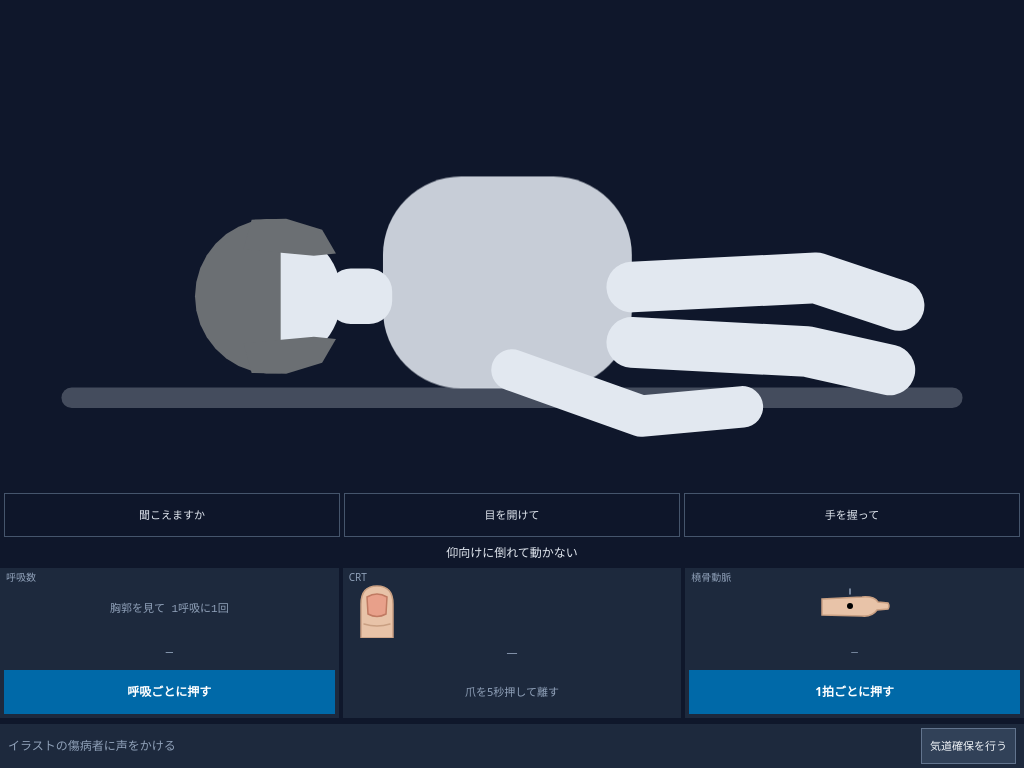
Scenario: 気道確保ボタンが答えを漏らさない（docs/OBSERVATION.md §3.1） › 自発呼吸がある症例では「気道確保は不要」を返す
(page scrolled)
Click the button "気道確保を行う". click: [968, 746]
box: x1=921 y1=728 x2=1016 y2=764
(page scrolled)
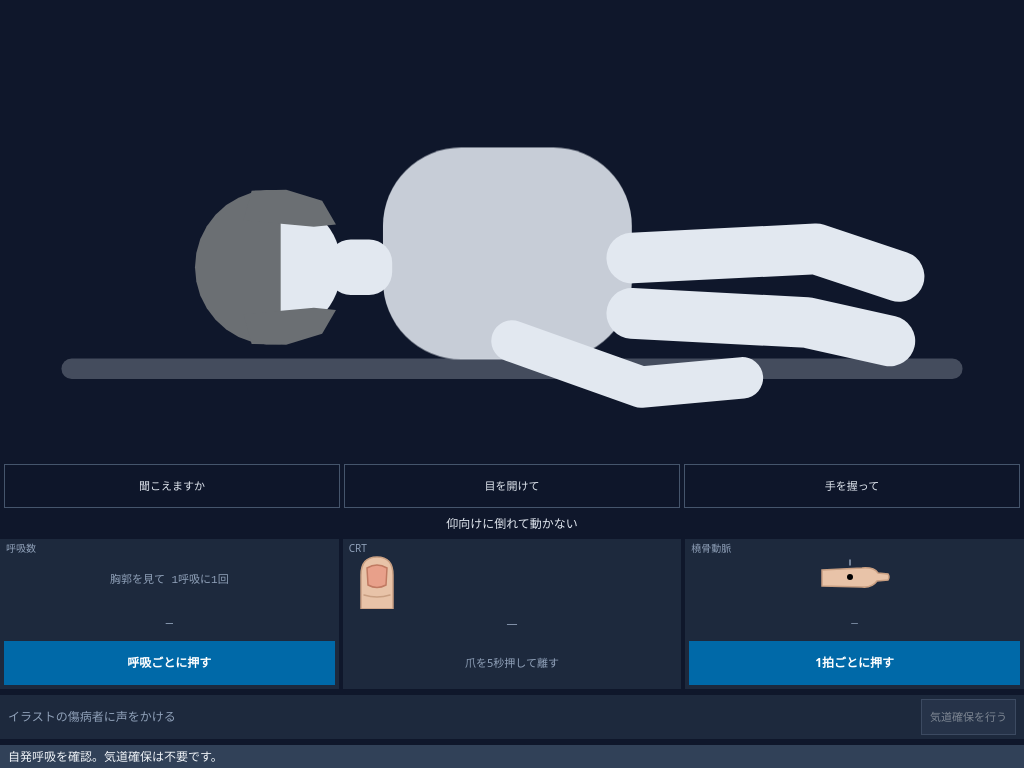
Check: the text "自発呼吸を確認。気道確保は不要です。" is shown, box x1=0 y1=745 x2=1023 y2=767
